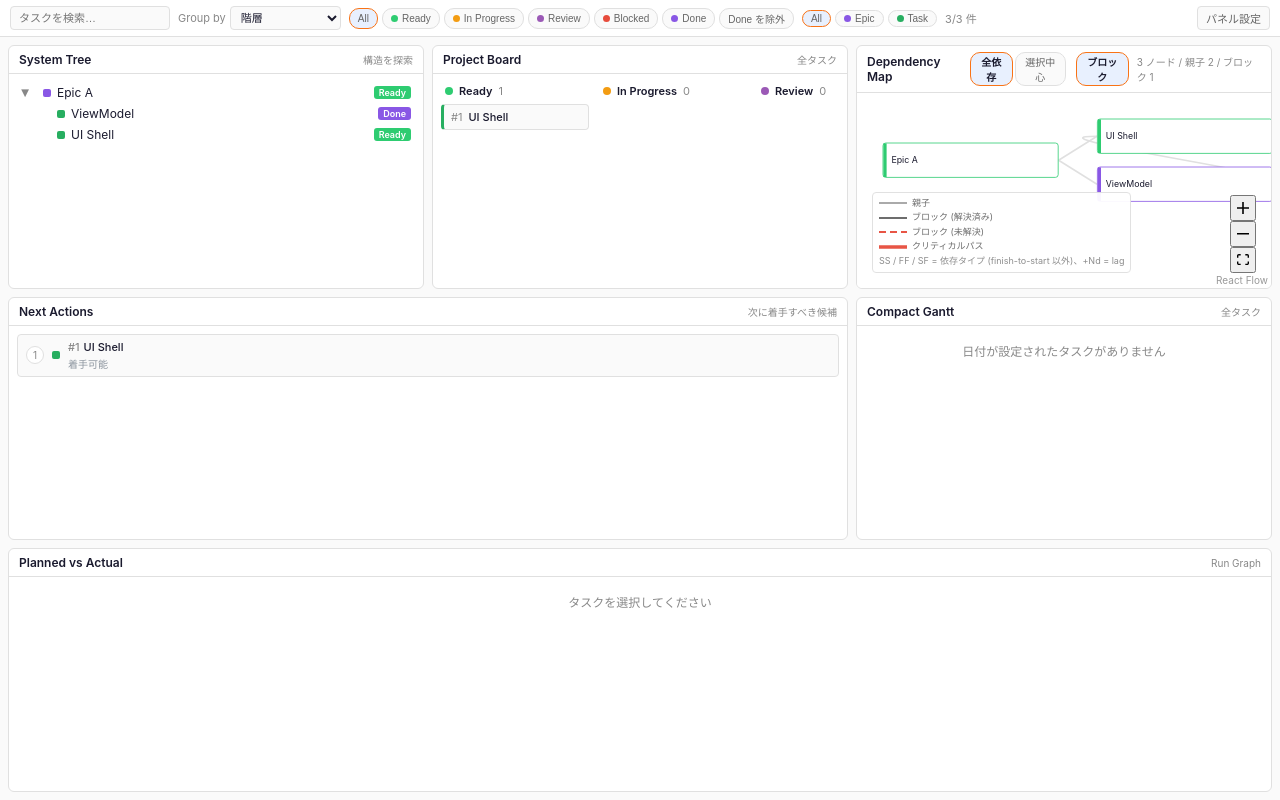
Test: [FR-VIS-028-AC1] 各パネルを個別に表示 / 非表示にでき、非表示パネルは描画されず残り領域が再配分される › 設定 UI は既定で閉じており、パネル設定ボタンで開閉する
Step 1. Click the button with aria-label "パネル設定" → (1234, 18), box [1197,6,1270,30]
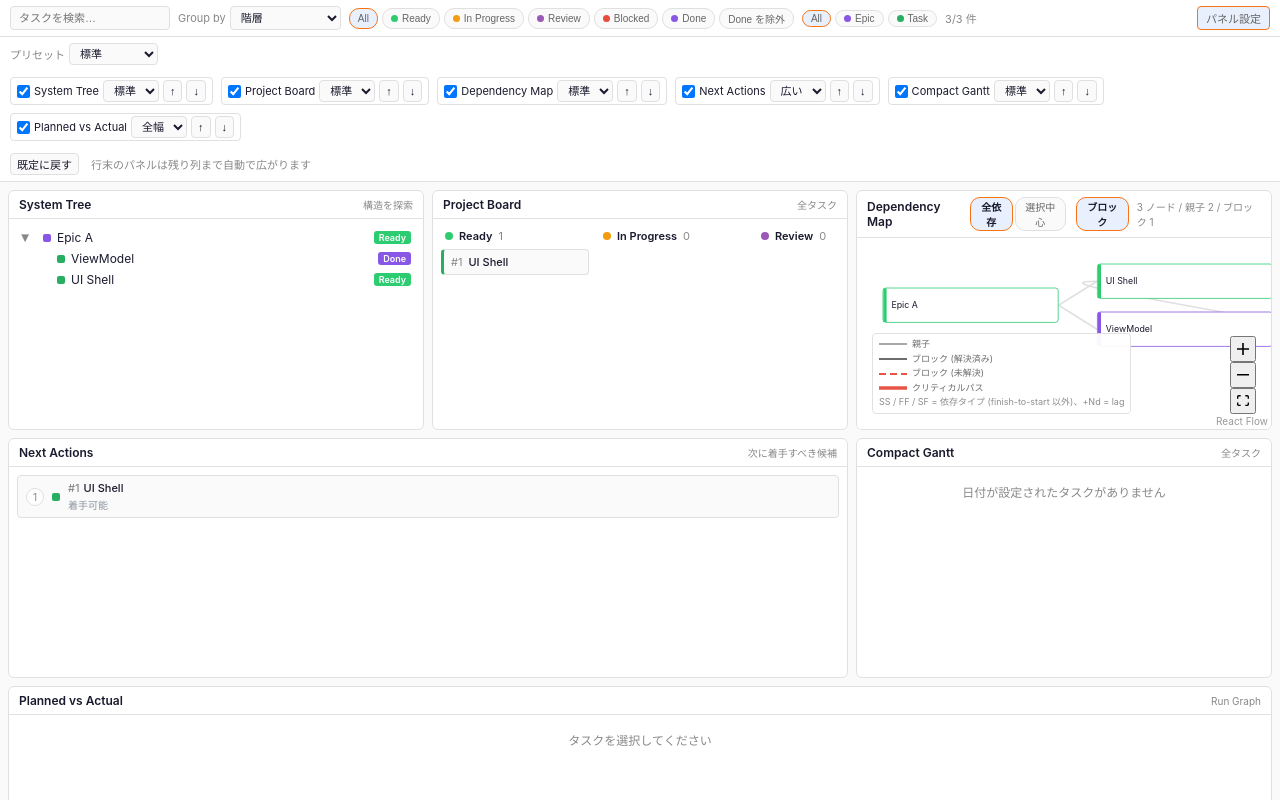
Expected: the element with test id "project-map-layout-settings" is shown, [0,37,1279,182]
Step 2. Click the button with aria-label "パネル設定" → (1234, 18), box [1197,6,1270,30]
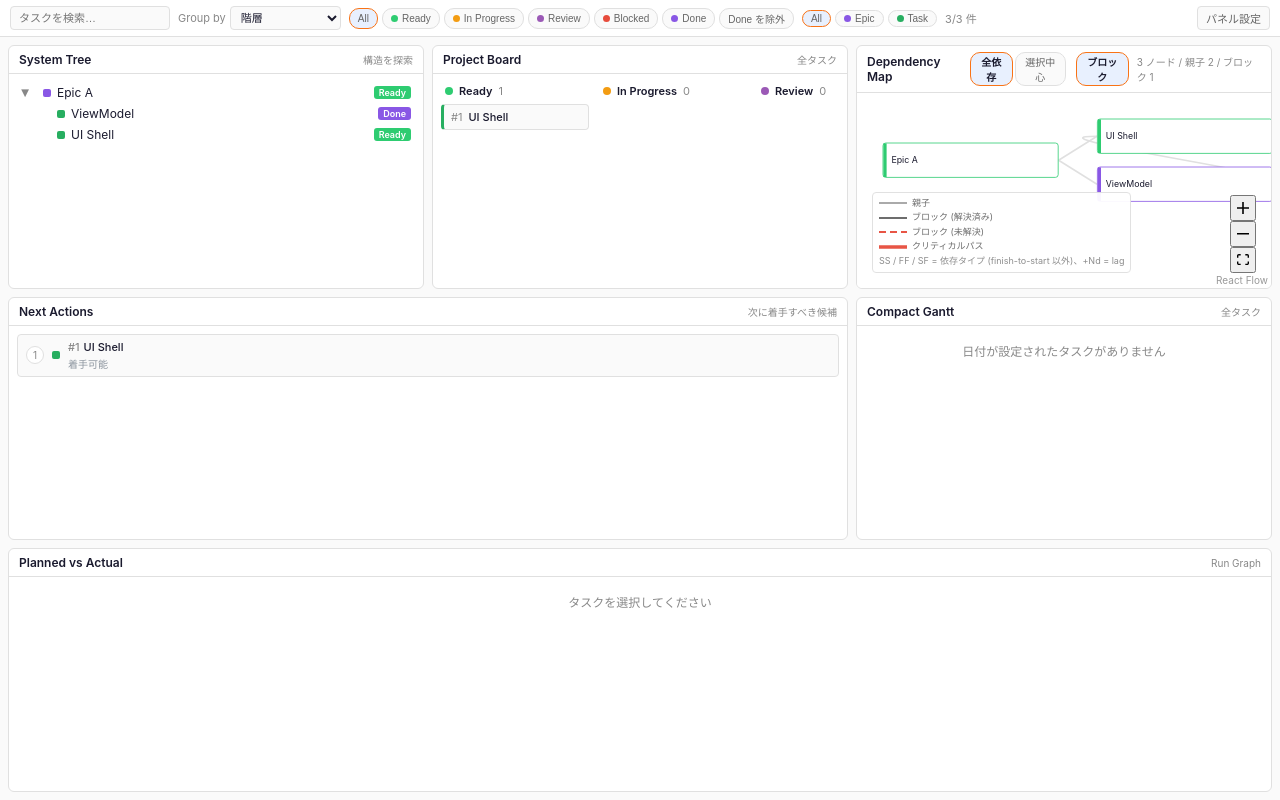
Expected: the element with test id "project-map-layout-settings" is gone
